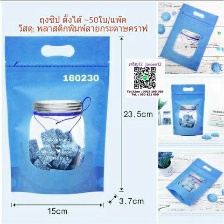snack: (1, 30, 114, 199), (156, 0, 221, 74), (161, 153, 224, 209), (167, 80, 208, 138)
